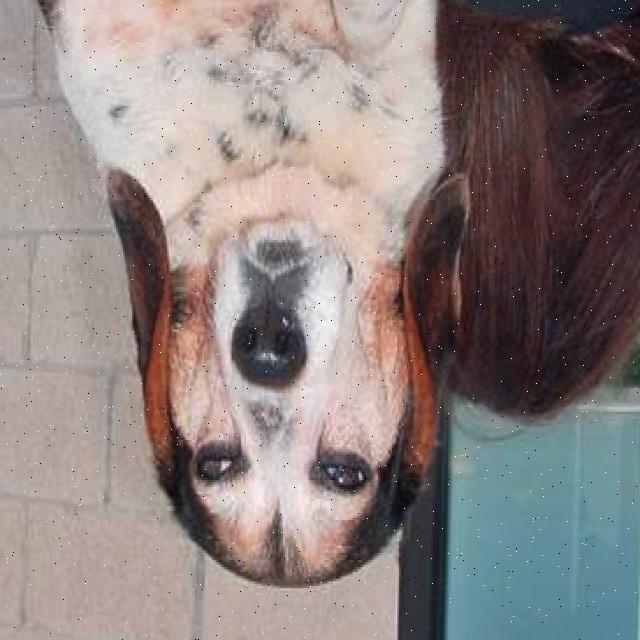Dog: (101, 159, 463, 590)
